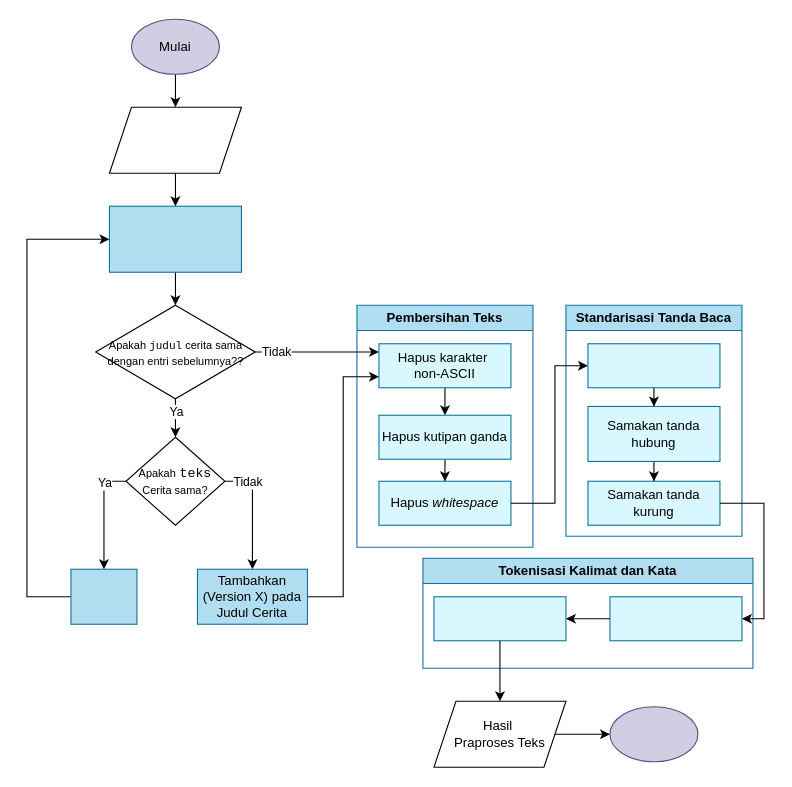
Image size: 792x787. Some labels were removed from this diagram. The shapes that lost their labels are listed below. From the top down, each one's centre as x and y in pixels, then its label:
At [174,139]: "Data Cerita Rakyat".
At [174,238]: "Ambil 1 entri cerita rakyat".
At [653,365]: "Samakan tanda kutip".
At [103,596]: "Hapus Cerita".
At [499,618]: "Tokenisasi kata".
At [675,618]: "Tokenisasi kalimat".
At [653,734]: "Selesai".
